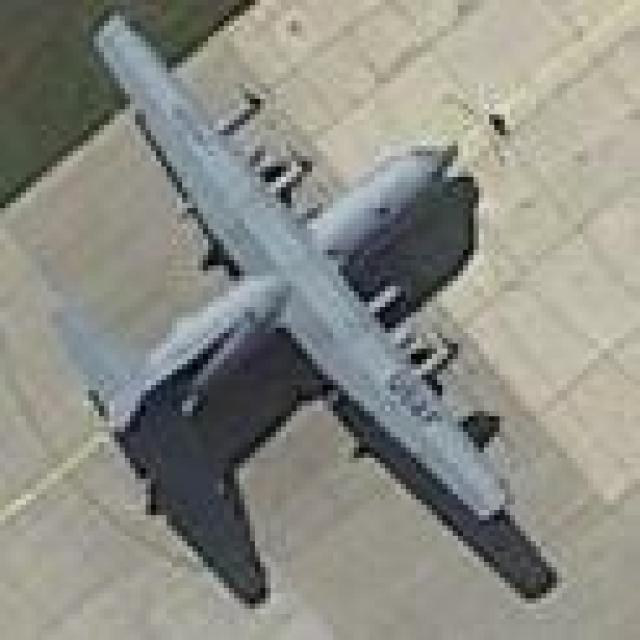C-130_TopDown: (49, 13, 568, 606)
